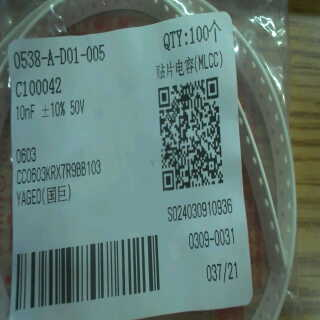10nF: (12, 100, 36, 128)
